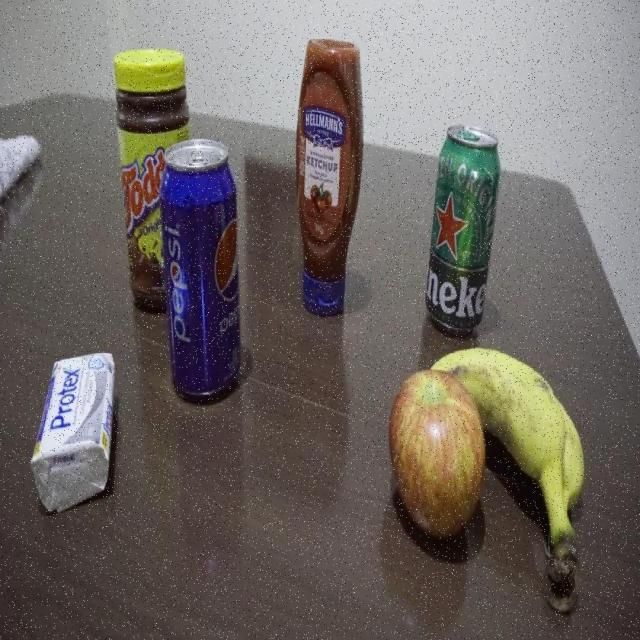Apple: (386, 368, 485, 548)
Banana: (484, 353, 592, 616)
BeerCan: (428, 125, 498, 332)
ChocolatePowder: (164, 139, 244, 408)
Ketchup: (298, 38, 362, 314)
Soap: (33, 349, 116, 508)
SodaCan: (116, 51, 164, 316)
